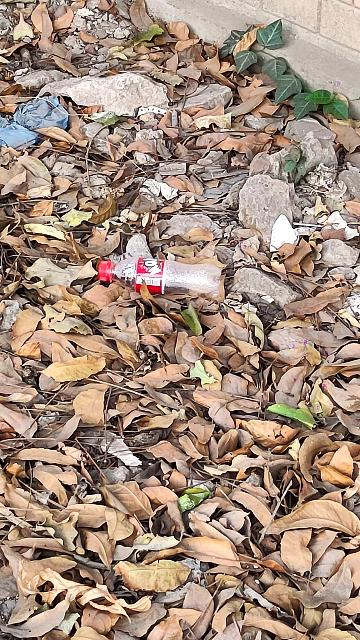bottle: (96, 250, 231, 302)
